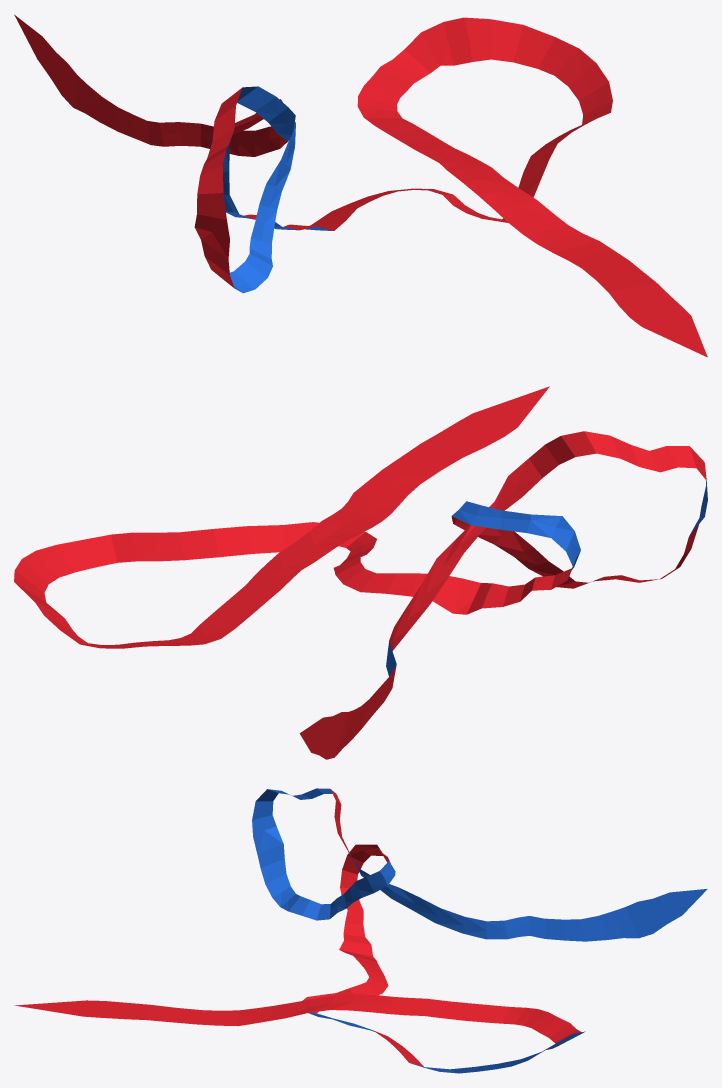
3 views of the same model, one above another, from view 1: azimuth 30°, elevation 25°; view 2: azimuth 150°, elevation 25°; view 3: azimuth 270°, elevation 25° (orthographic). The views are drawn at different scales.
Parts seen in each view (by area): view 1: 1201_back; view 2: 1201_back; view 3: 1201_back.
Part boxes in pixels (x1,y1,x2,y2): 1201_back: [14, 14, 707, 357]; 1201_back: [14, 386, 707, 759]; 1201_back: [14, 788, 707, 1073].
Bounding box in the file's own units: 1.15 × 0.378 × 1.75.
